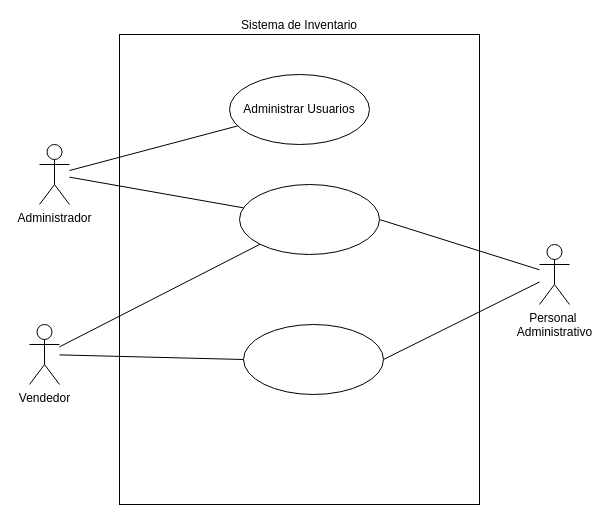
The diagram is 609 pixels wide and 522 high, and some of its shapes have lost their labels. Here are the shapes that lost their labels. From the top down, the box of each, then its label:
(238, 184, 380, 254): Administración de Productos
(242, 324, 384, 394): Administración de Pedidos
